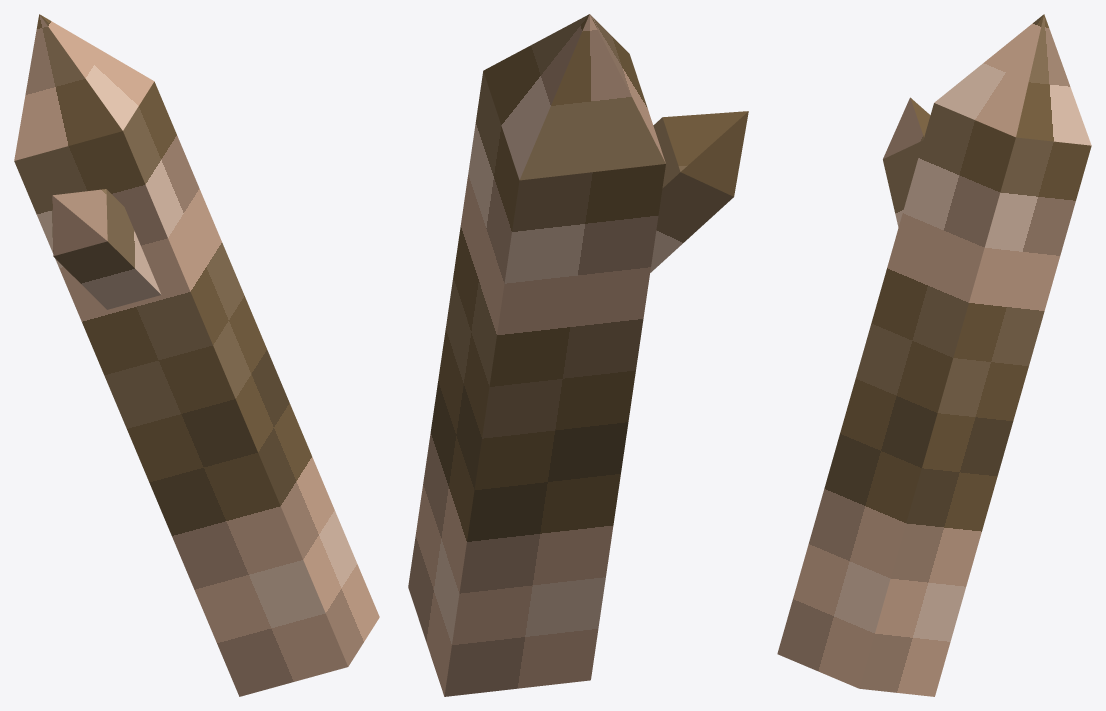
File: iron_3.obj
The picture shows the model from 3 angles, left to right: view 1: azimuth 30°, elevation 25°; view 2: azimuth 150°, elevation 25°; view 3: azimuth 270°, elevation 25°; orthographic projection. The views are drawn at different scales.
Parts seen in each view (by area): view 1: 3; view 2: 3; view 3: 3.
Part boxes in pixels (left/top/right/bottom): 3: left=14, top=14, right=379, bottom=696; 3: left=408, top=14, right=748, bottom=696; 3: left=777, top=14, right=1091, bottom=696.
Bounding box in the file's own units: 0.3559 × 0.7168 × 0.3392.
